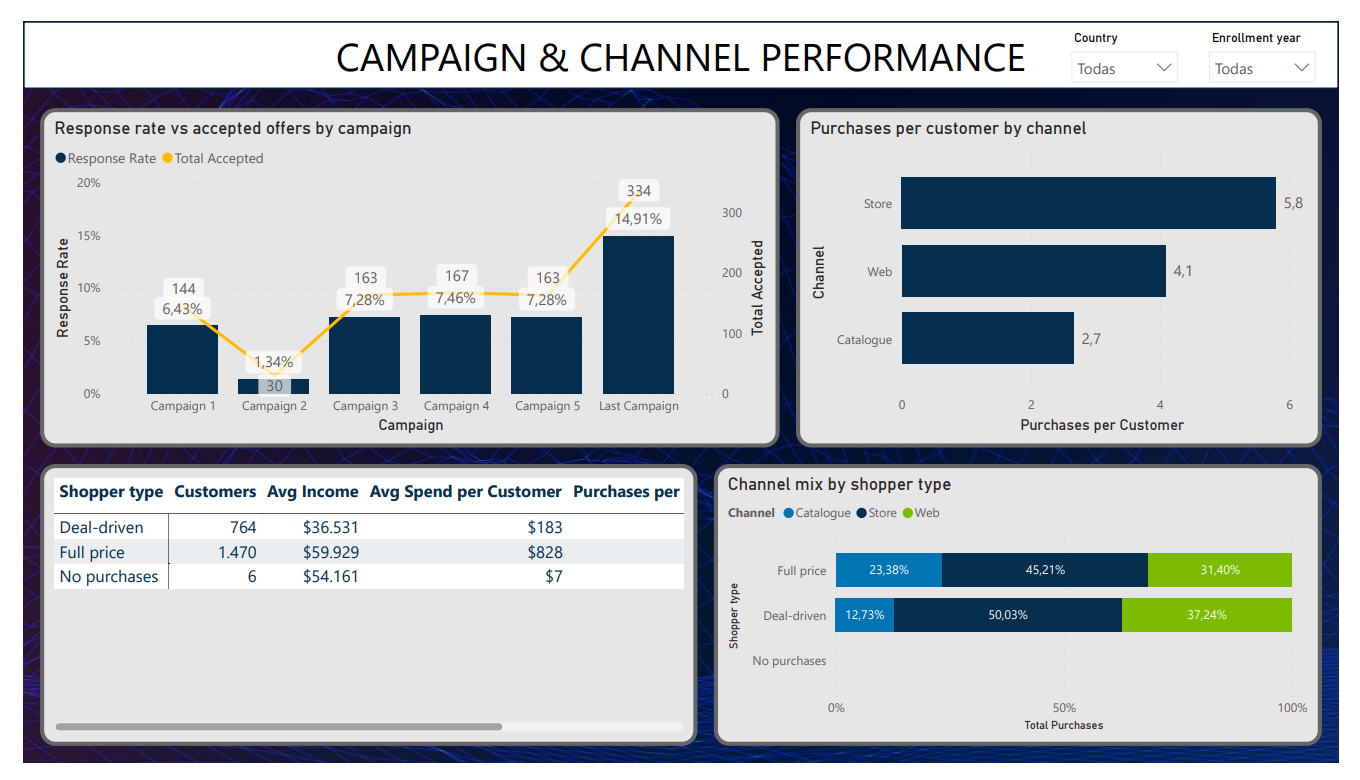

What the dashboard file says about the page in this screenshot:
{"tool":"powerbi","page":{"name":"3. Campaign & Channel","canvas":[1280,720],"ordinal":2},"visuals":[{"type":"lineClusteredColumnComboChart","title":"Response rate vs accepted offers by campaign","fields":{"Category":["Dim_Campaign.Campaign_Name"],"Y":["_Measures.Response Rate"],"Y2":["_Measures.Total Accepted"]},"box":[16,84,720,330],"z":100},{"type":"clusteredBarChart","title":"Purchases per customer by channel","fields":{"Category":["Fact_Channel.Channel"],"Y":["_Measures.Purchases per Customer"]},"box":[752,84,512,330],"z":200},{"type":"pivotTable","title":"Deal-driven vs full-price shoppers","fields":{"Rows":["Dim_Customer.Deal_Shopper"],"Values":["_Measures.Customer Count","_Measures.Avg Income","_Measures.Avg Spend per Customer","_Measures.Purchases per Customer","_Measures.Response Rate"]},"box":[16,430,640,274],"z":300},{"type":"hundredPercentStackedBarChart","title":"Channel mix by shopper type","fields":{"Category":["Dim_Customer.Deal_Shopper"],"Y":["_Measures.Total Purchases"],"Series":["Fact_Channel.Channel"]},"box":[672,430,592,274],"z":400},{"type":"shape","title":"CAMPAIGN & CHANNEL PERFORMANCE","box":[0,0,1280,65],"z":10000},{"type":"slicer","fields":{"Values":["Dim_Customer.Country"]},"box":[1010,4,124,58],"z":11000},{"type":"slicer","fields":{"Values":["Dim_Date.Year"]},"box":[1144,4,124,58],"z":12000}]}

Visuals, with their boxes in screenshot pixels (x1, y1, x2, y2), scaled from the page's 1280x720 canvas onto the 1360x780 screenshot:
"Response rate vs accepted offers by campaign" lineClusteredColumnComboChart: (x1=17, y1=91, x2=782, y2=448)
"Purchases per customer by channel" clusteredBarChart: (x1=799, y1=91, x2=1343, y2=448)
"Deal-driven vs full-price shoppers" pivotTable: (x1=17, y1=466, x2=697, y2=763)
"Channel mix by shopper type" hundredPercentStackedBarChart: (x1=714, y1=466, x2=1343, y2=763)
"CAMPAIGN & CHANNEL PERFORMANCE" shape: (x1=0, y1=0, x2=1359, y2=70)
slicer - Dim_Customer.Country: (x1=1073, y1=4, x2=1205, y2=67)
slicer - Dim_Date.Year: (x1=1216, y1=4, x2=1347, y2=67)
